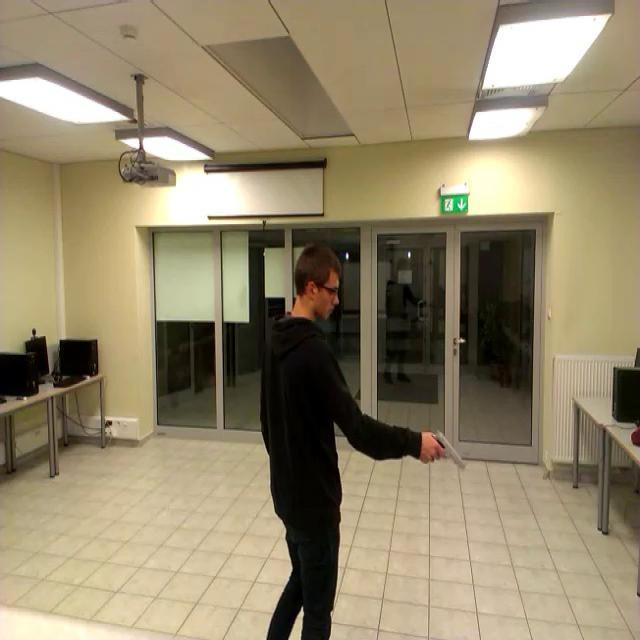weapon: (424, 432, 466, 473)
